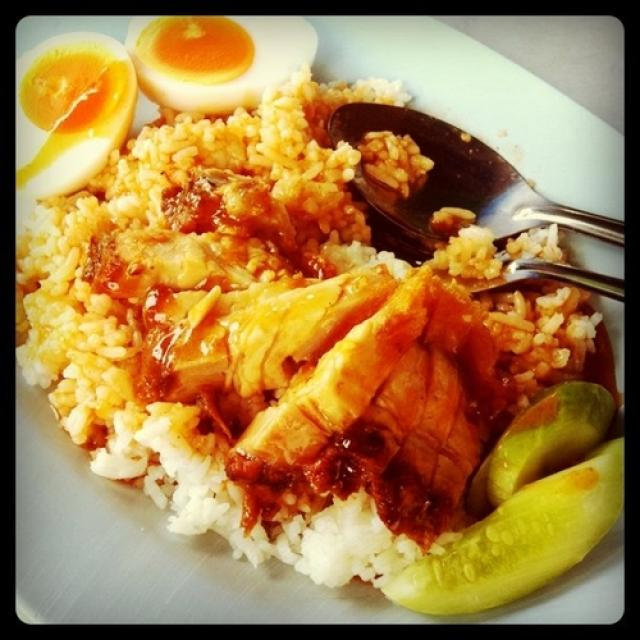猪肉菜式: (27, 58, 591, 586)
